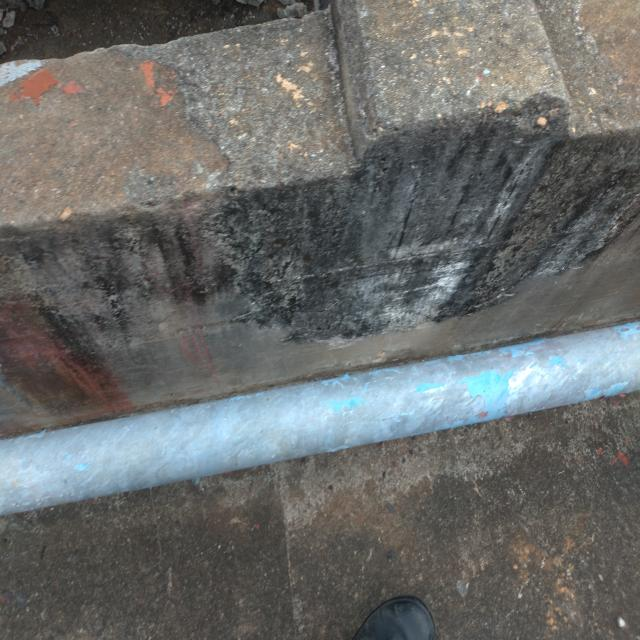gas: (3, 320, 638, 515)
